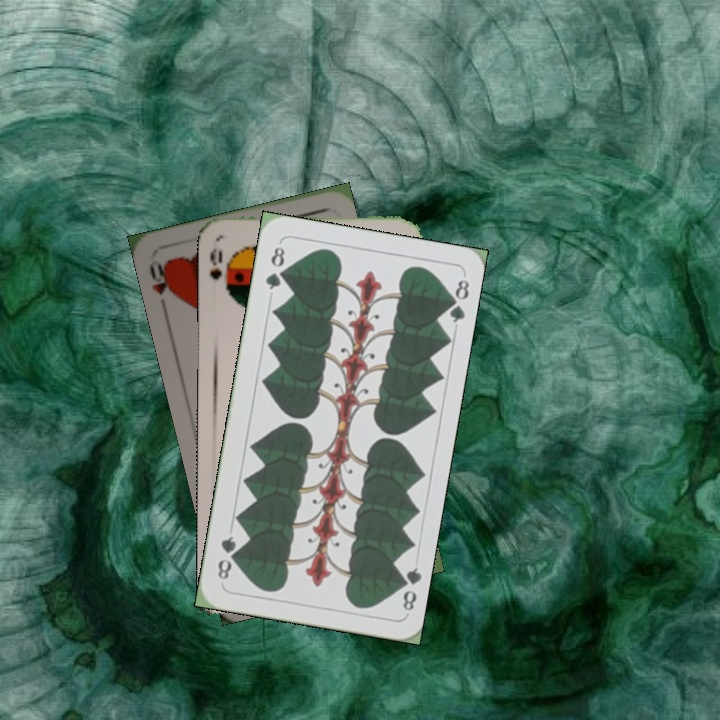G8: (393, 563, 423, 616), (261, 242, 287, 293)
HO: (145, 256, 177, 314)
SO: (206, 244, 225, 282)
